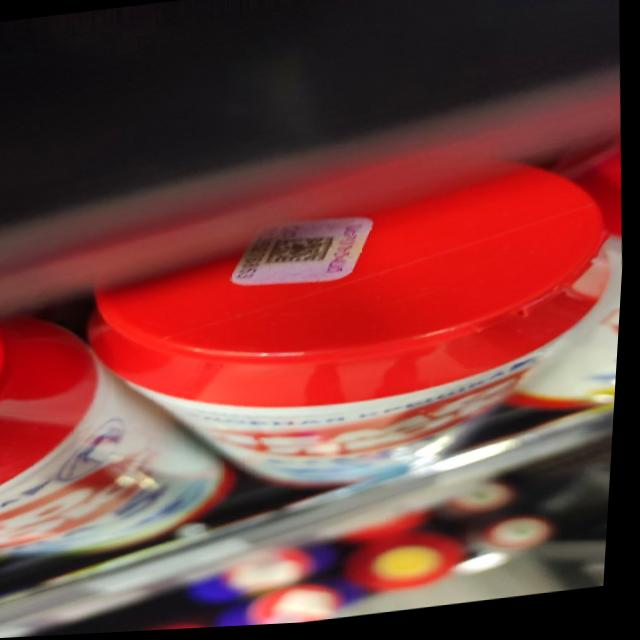datamatrix: (265, 235, 342, 273)
